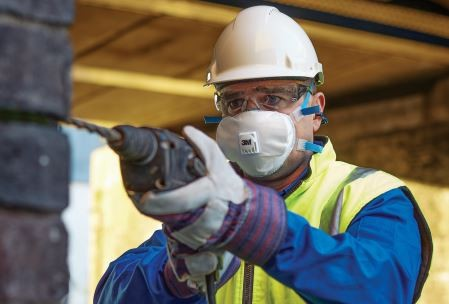Hard Hat: (198, 7, 327, 83)
High Viz: (214, 153, 402, 304)
